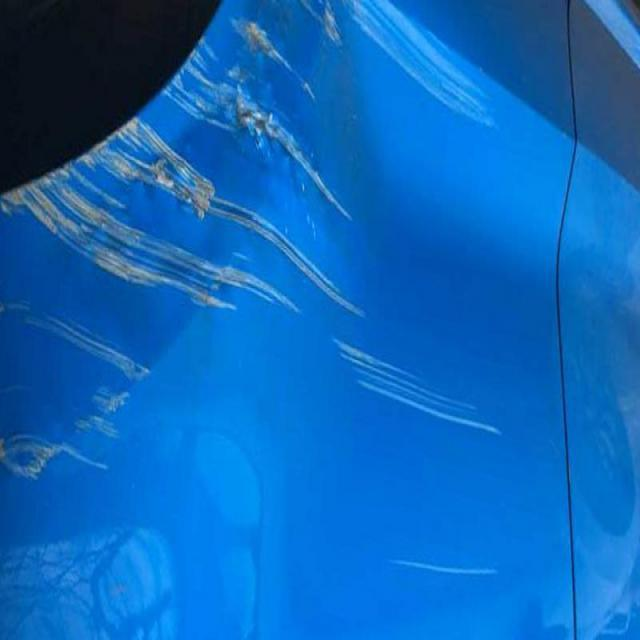scratch: (2, 0, 491, 359), (314, 308, 504, 448), (390, 551, 501, 598)
